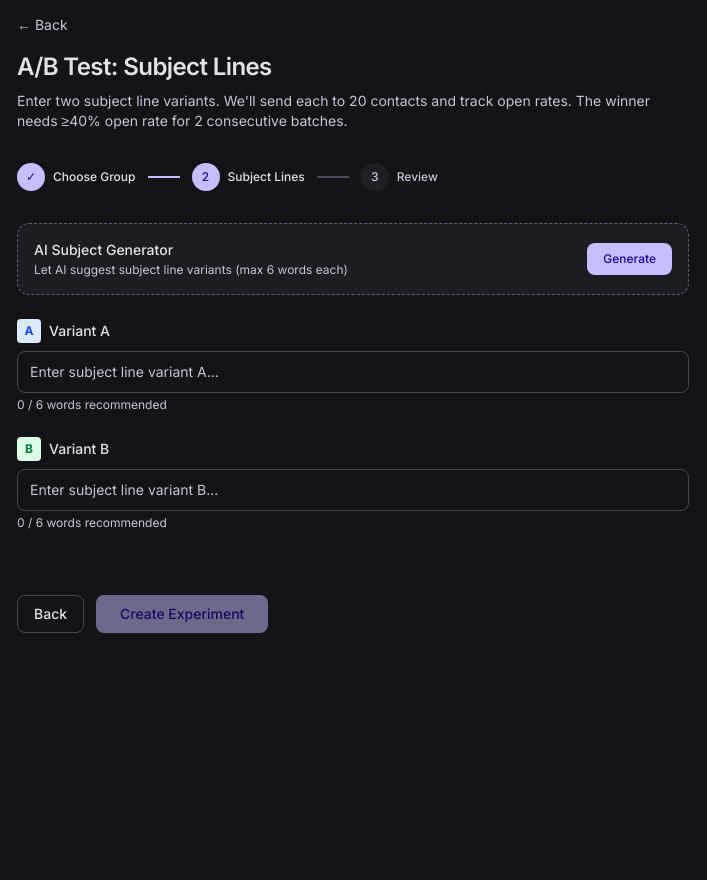
ABTestSubjectPage › shows generation and create errors
The width and height of the screenshot is (707, 880).
Click the button "Generate" at (630, 259), box [587,243,672,275]
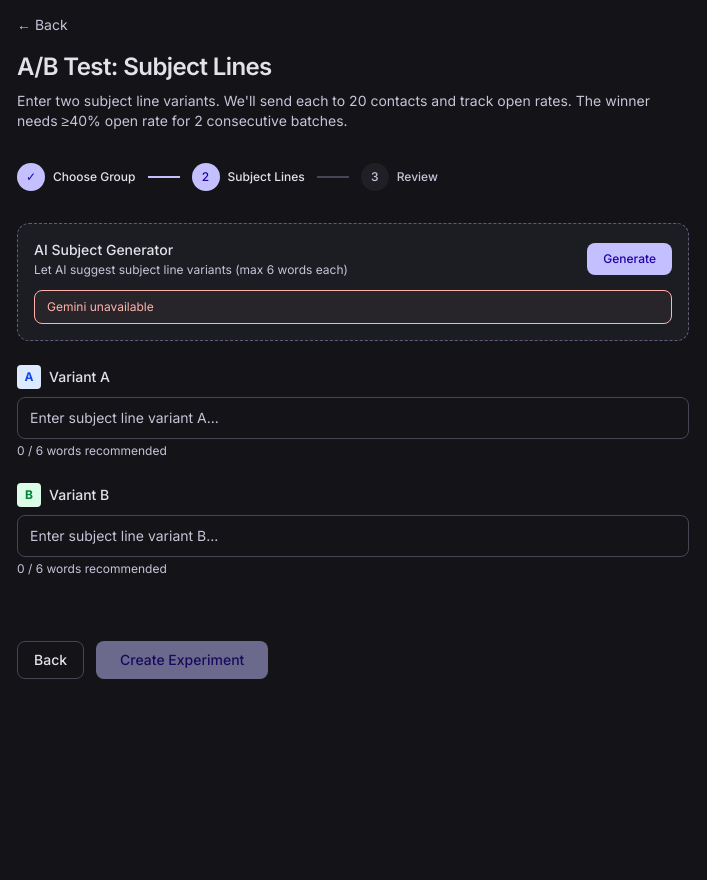
Expected: the text "Gemini unavailable" is shown, [34,290,672,324]
Type "Subject A" into the field with placeholder "Enter subject line variant A..." at (353, 418), box [17,397,689,439]
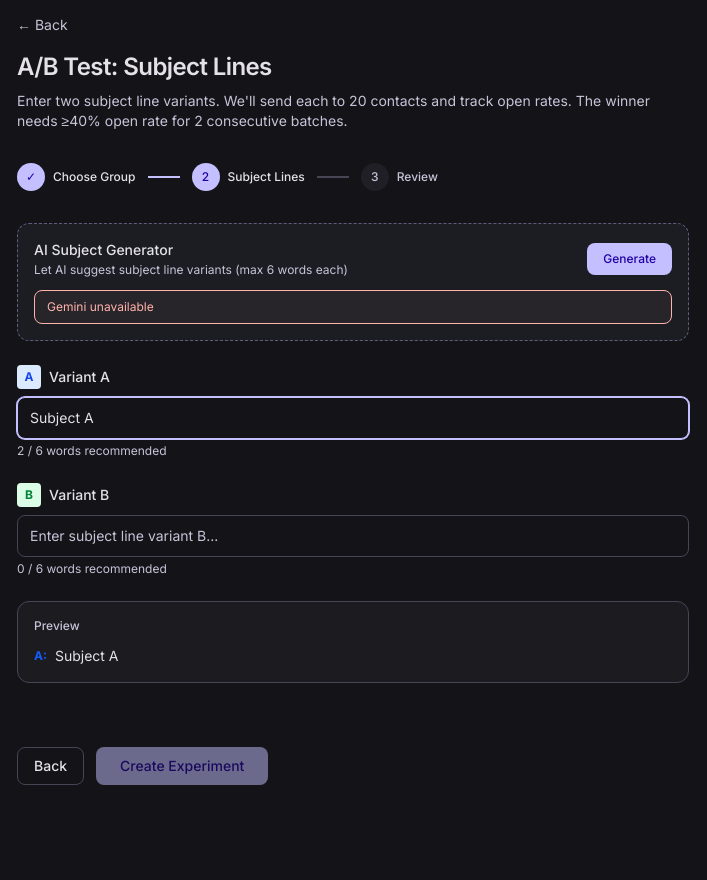
Type "Subject B" into the field with placeholder "Enter subject line variant B..." at (353, 536), box [17,515,689,557]
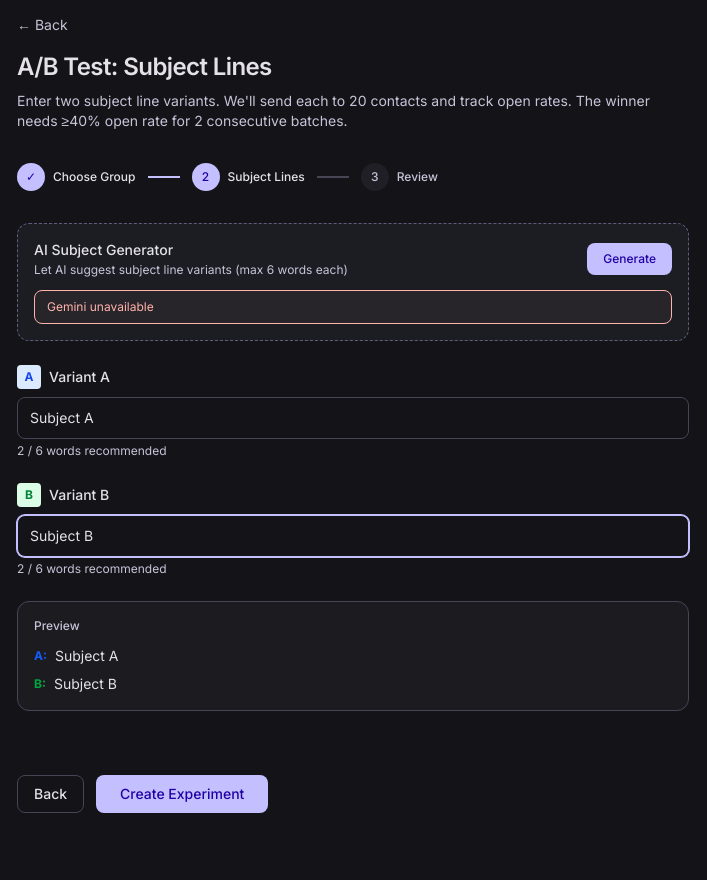
Click the button "Create Experiment" at (182, 794), box [96,775,268,813]
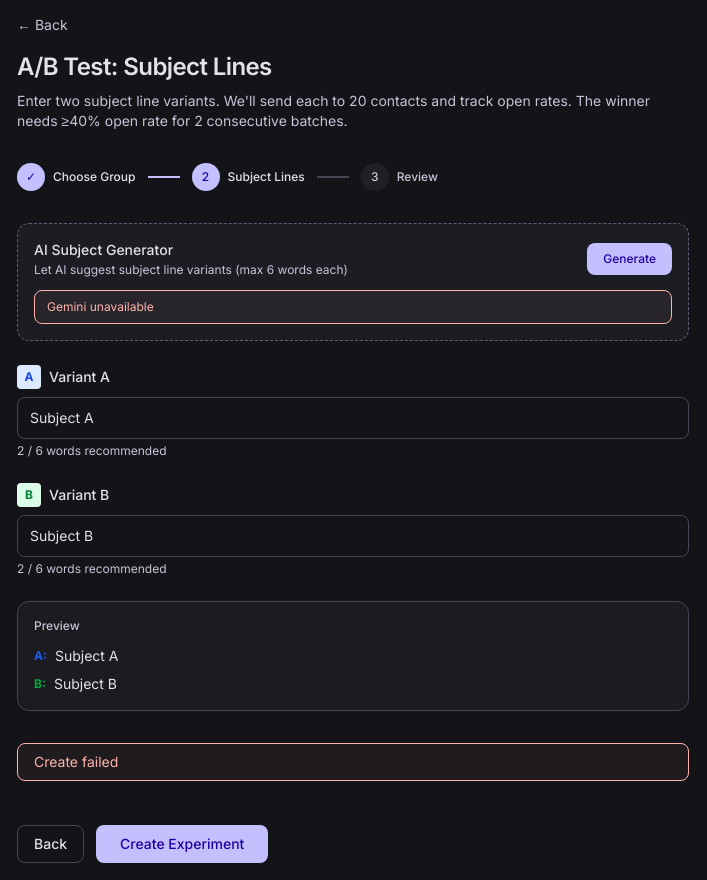
Expected: the text "Create failed" is shown, [17,743,689,781]
